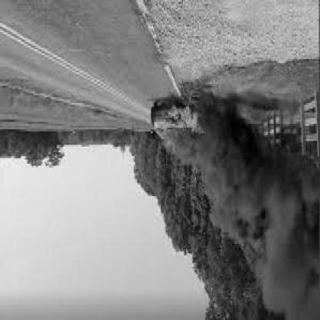Fire: (162, 89, 204, 167)
Smoke: (198, 96, 316, 296)
